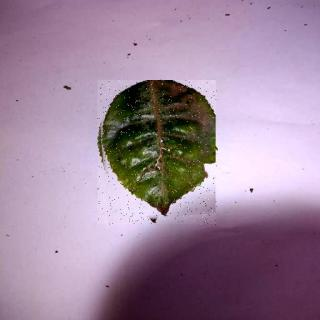Anthracnose: (99, 82, 219, 227)
